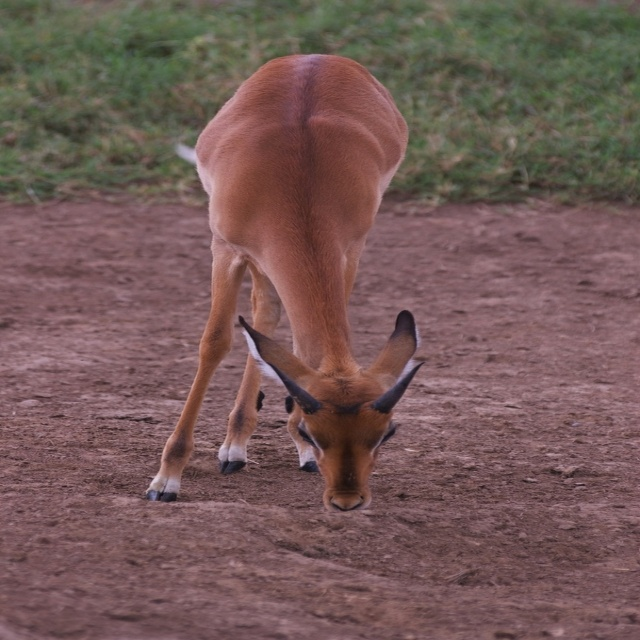Deer: (146, 54, 427, 513)
